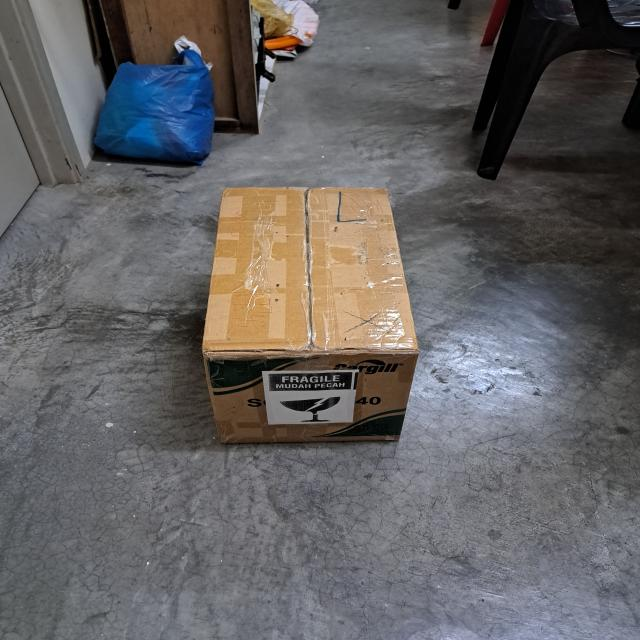cardboard: (202, 184, 422, 443)
plastic bag: (92, 53, 220, 163)
